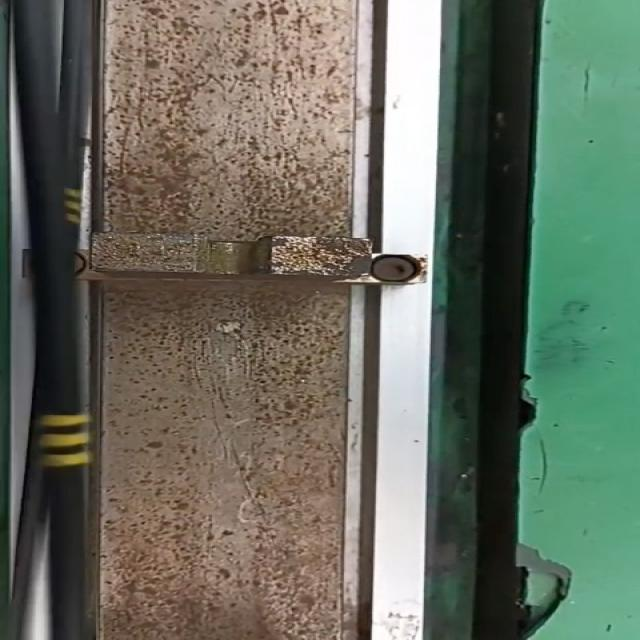yellow: (39, 412, 84, 466)
